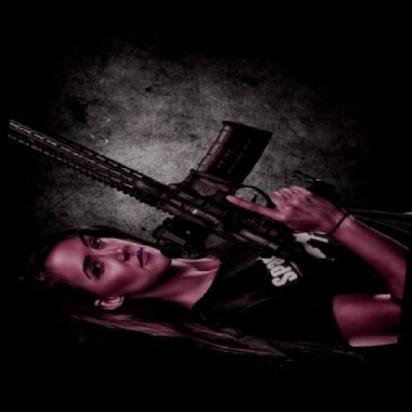Gun: (10, 117, 288, 229)
